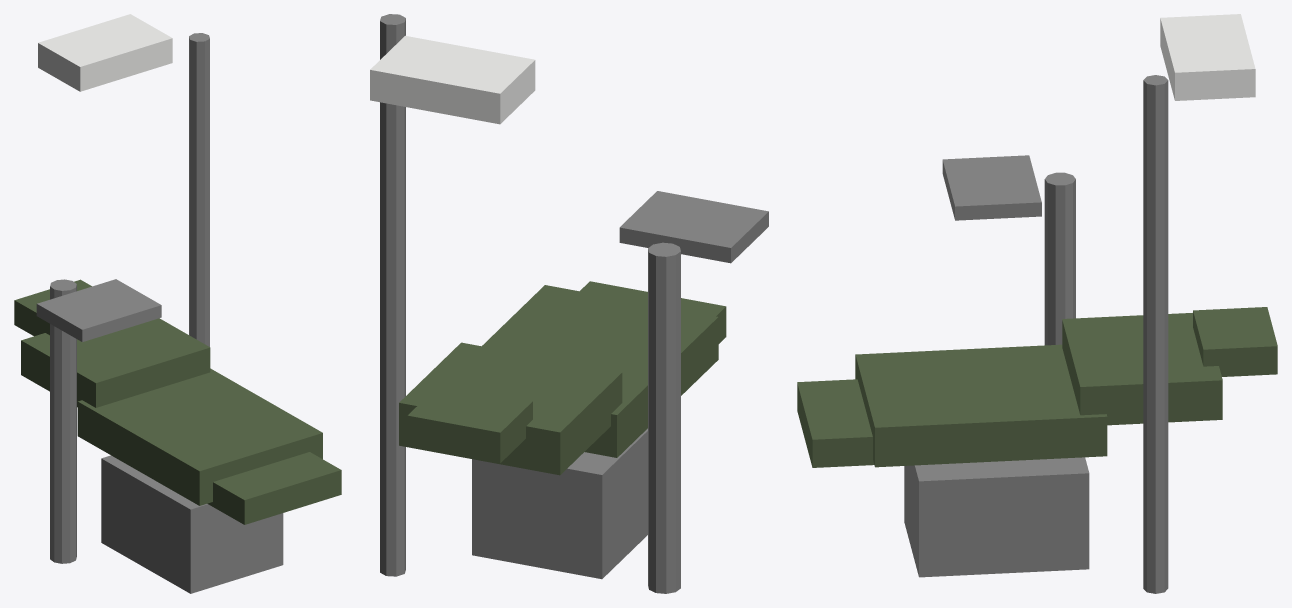
The picture shows the model from 3 angles, left to right: view 1: azimuth 30°, elevation 25°; view 2: azimuth 150°, elevation 25°; view 3: azimuth 270°, elevation 25°; orthographic projection. The views are drawn at different scales.
Visible parts, largest first — view 1: sillon_ortho_4; view 2: sillon_ortho_4; view 3: sillon_ortho_4.
Boxes of the visible parts, left/top/right/bottom form: sillon_ortho_4: left=14, top=14, right=341, bottom=593; sillon_ortho_4: left=370, top=14, right=768, bottom=593; sillon_ortho_4: left=797, top=14, right=1277, bottom=593.
Bounding box in the file's own units: 0.9604 × 1.54 × 1.8.
